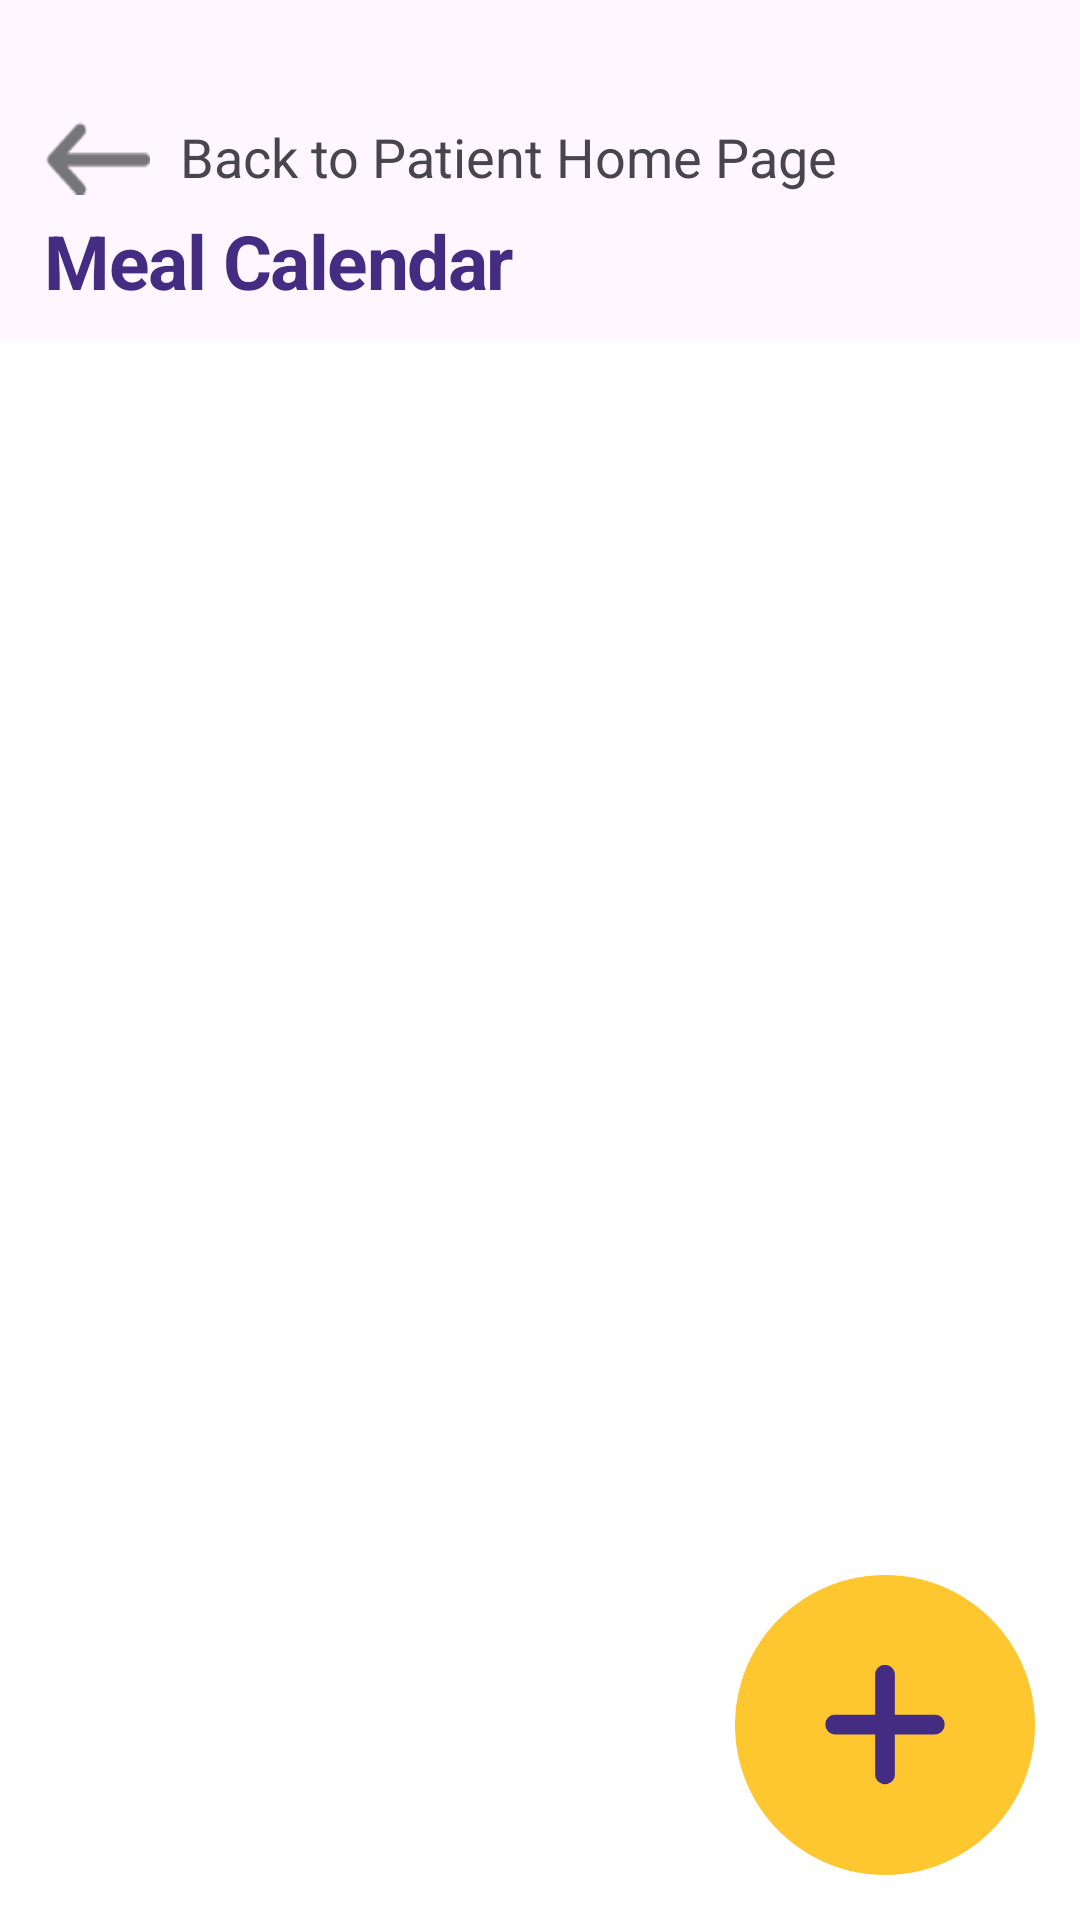

Point at icon controls on the screen. Image size 1080×1920, points as (x,y).
add no lines: (885,1725)
arrow back: (98,158)
